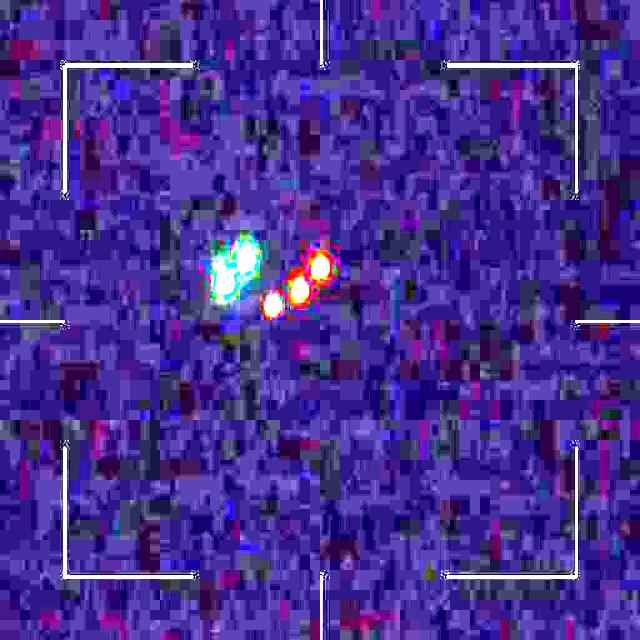bird: (215, 239, 330, 319)
